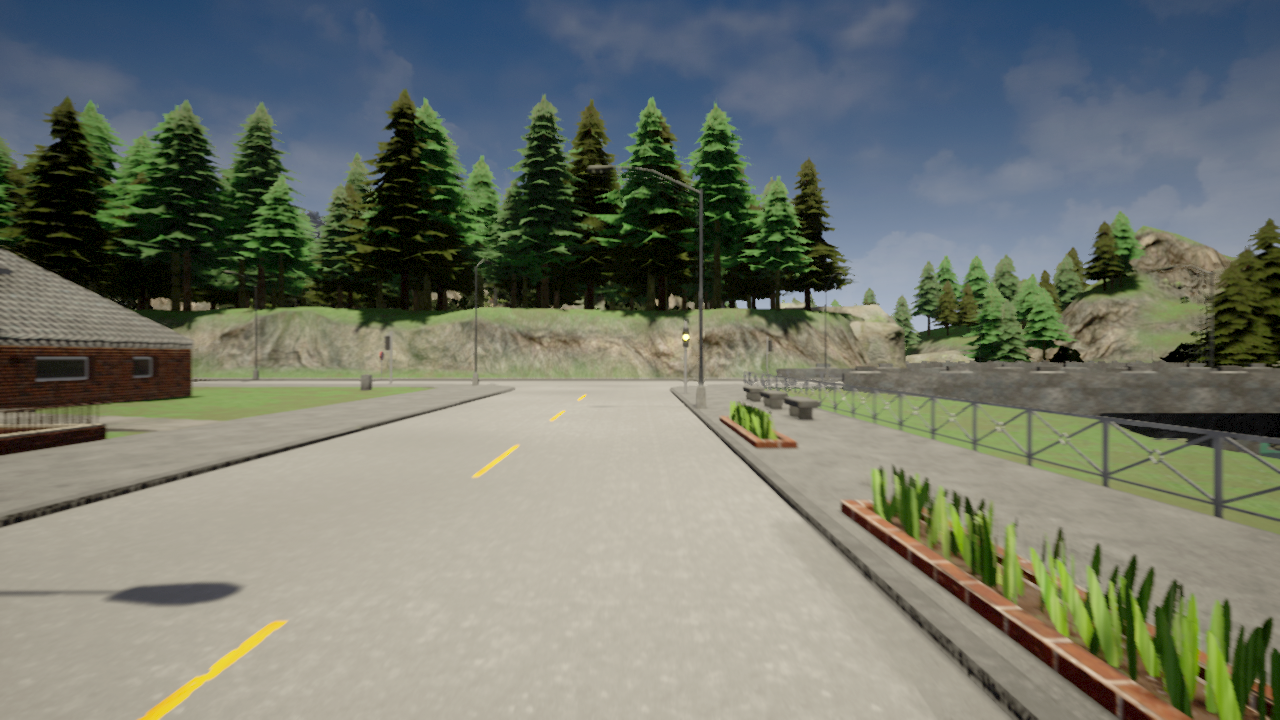yellow: (681, 326, 691, 347)
